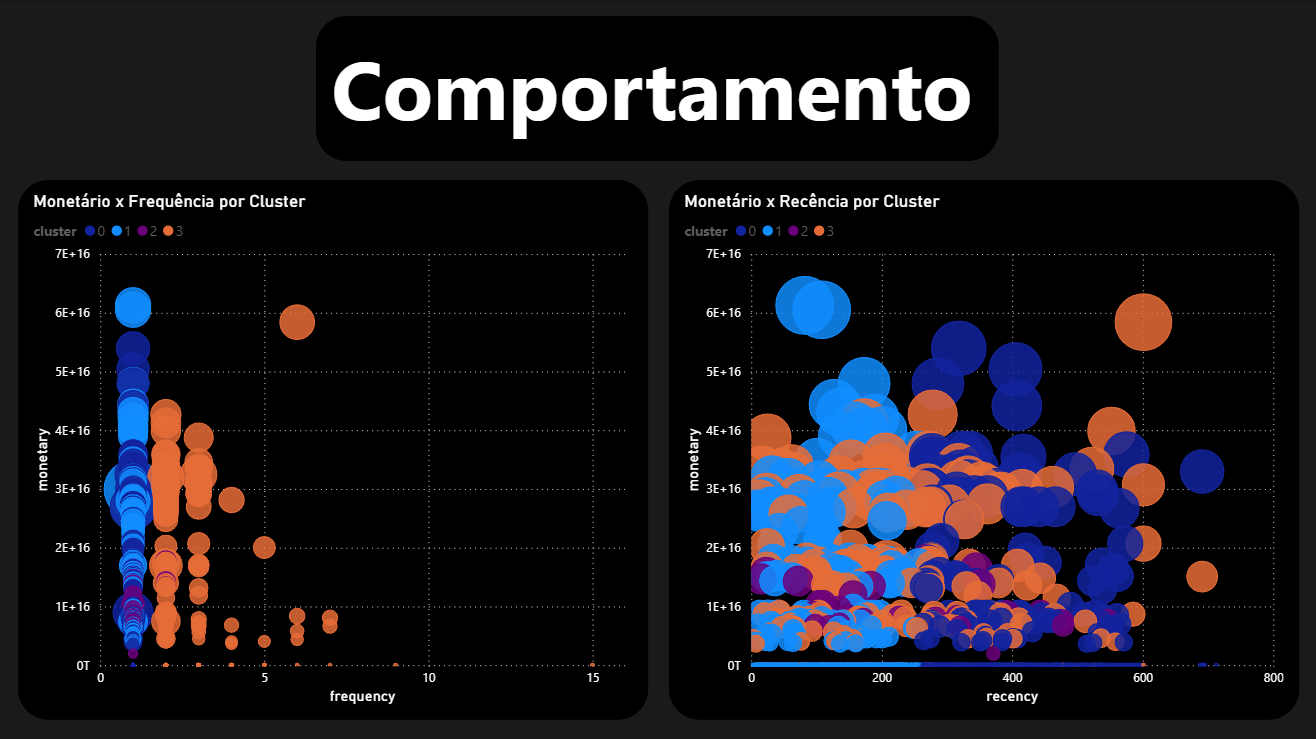

The page's visual inventory and layout, read from the dashboard file:
{"tool":"powerbi","page":{"name":"Comportamento","canvas":[1280,720],"ordinal":1},"visuals":[{"type":"scatterChart","title":"Monetário x Recência por Cluster","fields":{"Y":["clustered_customers.monetary"],"X":["clustered_customers.recency"],"Size":["Sum(clustered_customers.monetary)1"],"Series":["clustered_customers.cluster"]},"box":[650.7,175.1,612.8,525.2],"z":0},{"type":"scatterChart","title":"Monetário x Frequência por Cluster","fields":{"Y":["clustered_customers.monetary"],"X":["clustered_customers.frequency"],"Series":["clustered_customers.cluster"],"Size":["Sum(clustered_customers.monetary)1"]},"box":[17.5,175.1,612.8,525.2],"z":1000},{"type":"textbox","box":[307.4,15.6,664.3,141],"z":2000}]}

Visuals, with their boxes in screenshot pixels (x1, y1, x2, y2), scaled from the page's 1280x720 canvas onto the 1316x739 screenshot:
"Monetário x Recência por Cluster" scatterChart: {"left": 669, "top": 180, "right": 1299, "bottom": 719}
"Monetário x Frequência por Cluster" scatterChart: {"left": 18, "top": 180, "right": 648, "bottom": 719}
textbox: {"left": 316, "top": 16, "right": 999, "bottom": 161}
